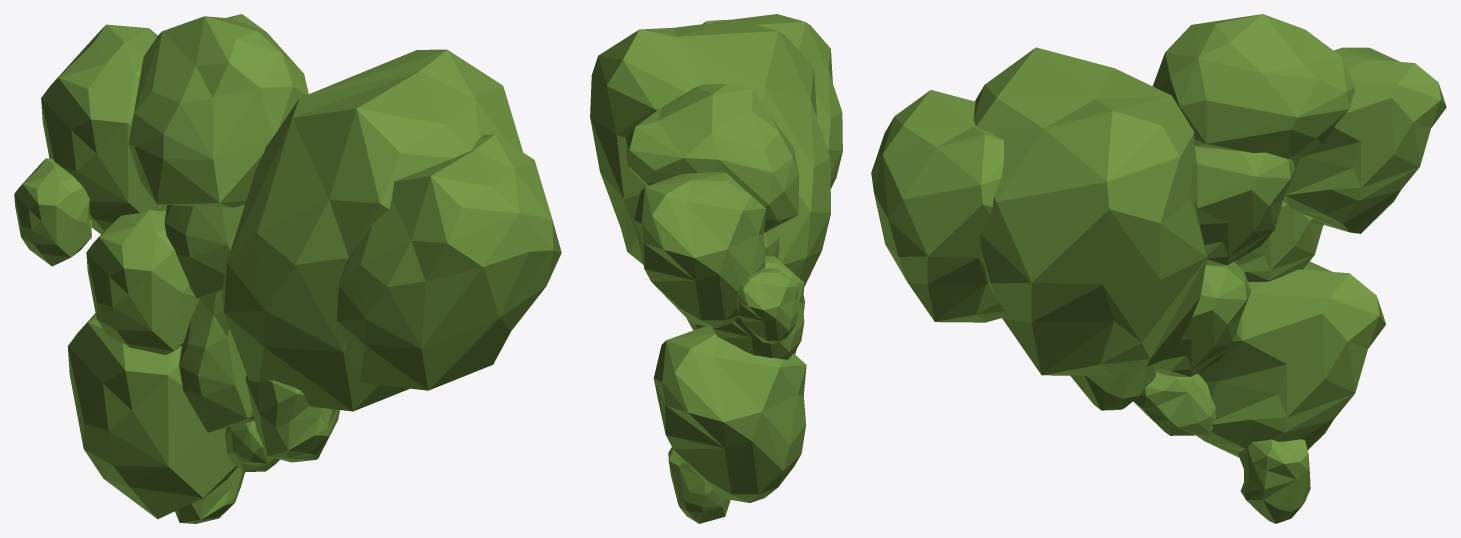
Rendered from moss6.fbx.
3 views of the same model, side by side, from view 1: azimuth 30°, elevation 25°; view 2: azimuth 150°, elevation 25°; view 3: azimuth 270°, elevation 25° (orthographic). The views are drawn at different scales.
Visible parts, largest first — view 1: Group63488.012, Moss_G7, Group63487.013, Group63487.010, Group63487.012, Group63487.011, Group63488.011, Group63487.014, Group63488.015, Group63488.010, Group63488.014, Group63488.016; view 2: Group63488.012, Group63487.010, Group63487.012, Group63487.013, Moss_G7, Group63487.014, Group63487.011, Group63488.016, Group63488.010; view 3: Group63488.012, Group63487.010, Moss_G7, Group63487.013, Group63487.012, Group63488.010, Group63488.011, Group63488.016, Group63488.014, Group63487.011, Group63488.015.
Part boxes in pixels (bbox=[...]): Group63488.012: bbox=[221, 49, 523, 411]; Moss_G7: bbox=[336, 134, 561, 390]; Group63487.013: bbox=[128, 14, 308, 207]; Group63487.010: bbox=[67, 313, 237, 519]; Group63487.012: bbox=[41, 24, 166, 233]; Group63487.011: bbox=[86, 209, 199, 354]; Group63488.011: bbox=[179, 290, 254, 432]; Group63487.014: bbox=[14, 158, 91, 266]; Group63488.015: bbox=[245, 375, 339, 462]; Group63488.010: bbox=[164, 204, 244, 298]; Group63488.014: bbox=[225, 421, 279, 472]; Group63488.016: bbox=[175, 467, 244, 523]; Group63488.012: bbox=[590, 20, 830, 286]; Group63487.010: bbox=[653, 326, 806, 502]; Group63487.012: bbox=[634, 172, 766, 327]; Group63487.013: bbox=[626, 84, 798, 232]; Moss_G7: bbox=[702, 14, 842, 188]; Group63487.014: bbox=[737, 268, 798, 344]; Group63487.011: bbox=[713, 255, 804, 359]; Group63488.016: bbox=[668, 447, 730, 523]; Group63488.010: bbox=[764, 226, 779, 258]; Group63488.012: bbox=[973, 47, 1207, 375]; Group63487.010: bbox=[1196, 261, 1385, 457]; Moss_G7: bbox=[871, 90, 1004, 322]; Group63487.013: bbox=[1153, 14, 1355, 159]; Group63487.012: bbox=[1283, 47, 1446, 233]; Group63488.010: bbox=[1191, 146, 1295, 265]; Group63488.011: bbox=[1153, 262, 1251, 377]; Group63488.016: bbox=[1238, 439, 1310, 523]; Group63488.014: bbox=[1133, 372, 1215, 435]; Group63487.011: bbox=[1234, 201, 1324, 281]; Group63488.015: bbox=[1070, 364, 1156, 410].
Size of the model in its own units: 1011 by 1361 by 1408.
